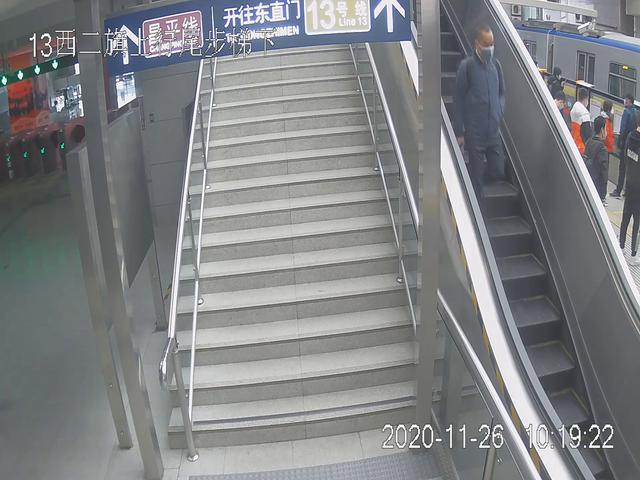person: (446, 19, 513, 210)
